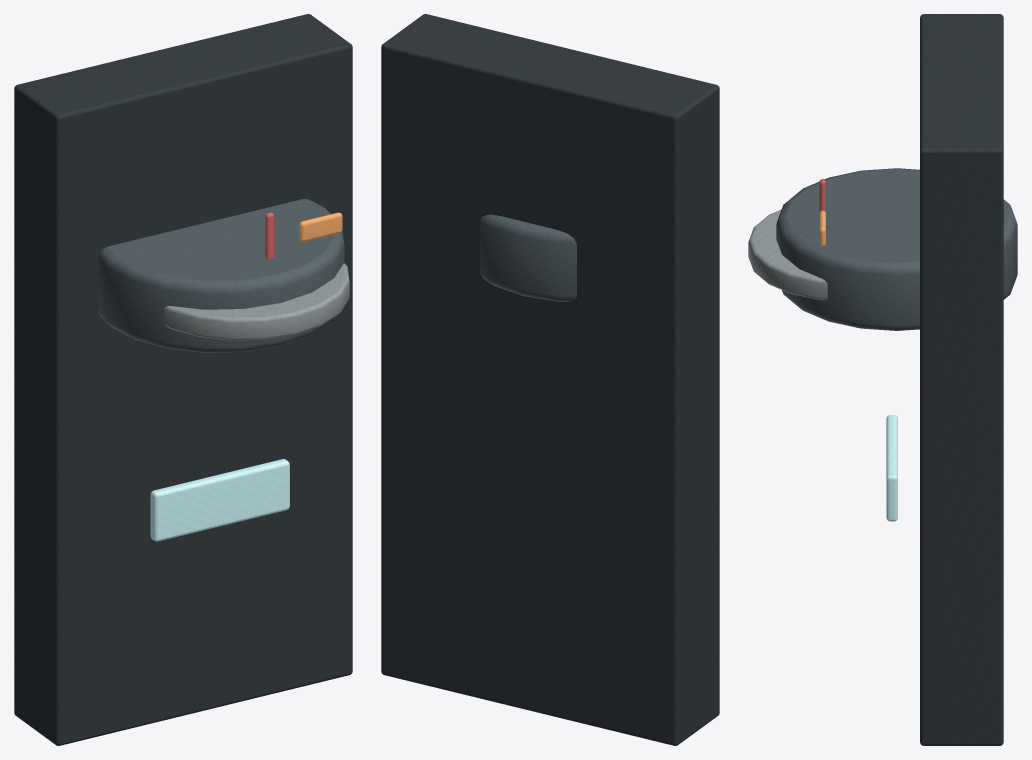
Rendered from ContainmentPressureGauge.glb.
The picture shows the model from 3 angles, left to right: view 1: azimuth 30°, elevation 25°; view 2: azimuth 150°, elevation 25°; view 3: azimuth 270°, elevation 25°; orthographic projection. The views are drawn at different scales.
Parts seen in each view (by area): view 1: ContainmentPressureGauge_Mesh; view 2: ContainmentPressureGauge_Mesh; view 3: ContainmentPressureGauge_Mesh.
Boxes of the visible parts, x1=… form: ContainmentPressureGauge_Mesh: x1=14, y1=14, x2=352, y2=745; ContainmentPressureGauge_Mesh: x1=381, y1=14, x2=719, y2=745; ContainmentPressureGauge_Mesh: x1=748, y1=14, x2=1017, y2=745.
Size of the model in its own units: 0.7 by 1.42 by 0.58.
7 materials, 7 textured.
